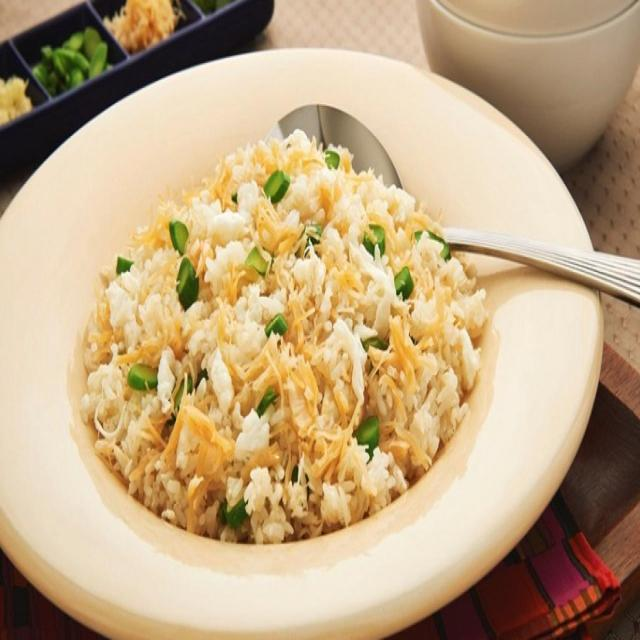Nasi Goreng: (78, 127, 488, 544)
